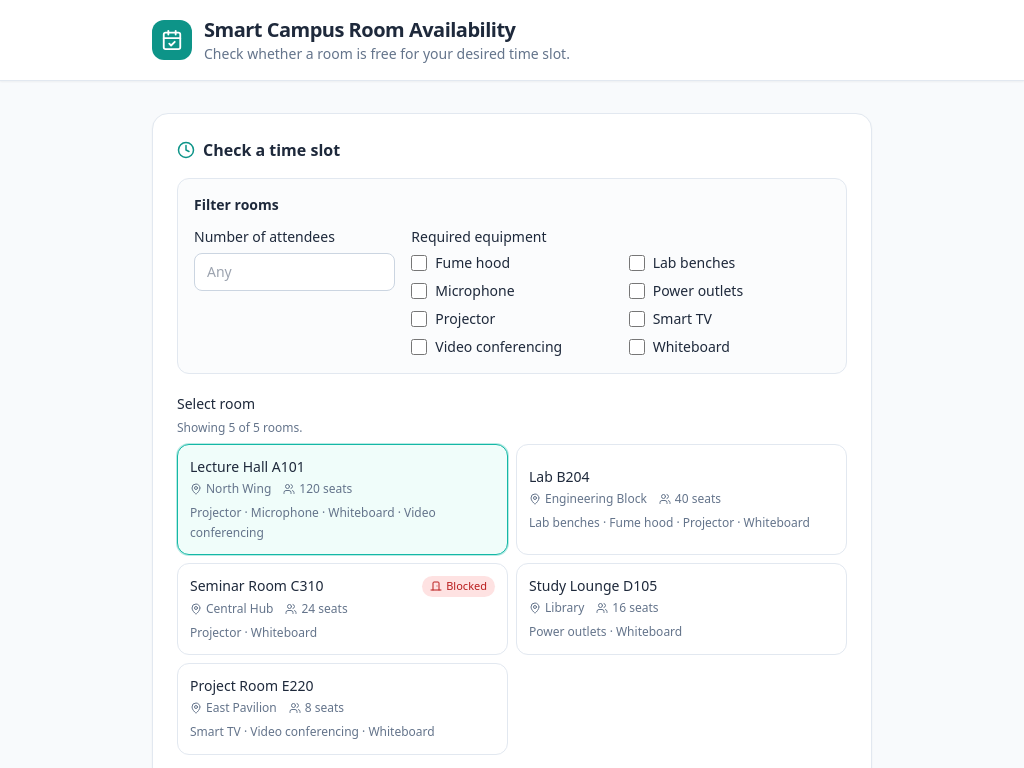
Test: App page integration › U3: attendee count above every capacity shows the empty state
Type "200" into the number field labelled "Number of attendees" at (295, 272), box [194,253,395,291]
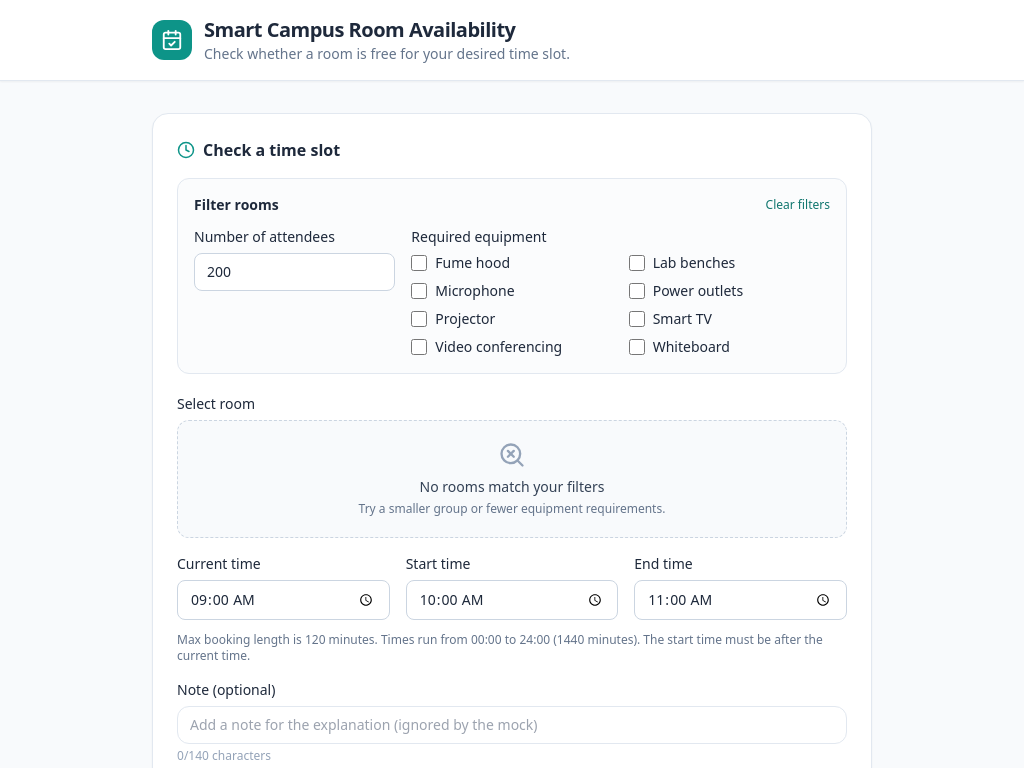
Result: the text "No rooms match your filters" is shown at [420,477,604,496]
Result: the button "Lecture Hall A101" is gone
